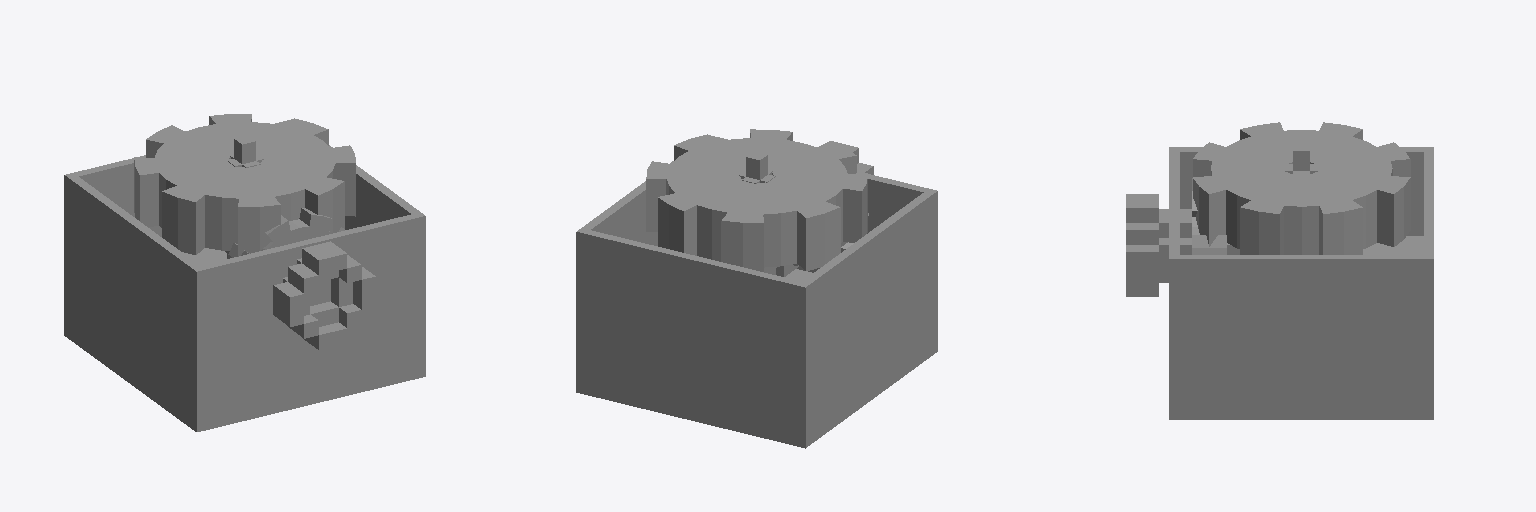
File: grinder_total.obj
The picture shows the model from 3 angles: view 1: azimuth 30°, elevation 25°; view 2: azimuth 150°, elevation 25°; view 3: azimuth 270°, elevation 25°; orthographic projection.
Parts seen in each view (by area): view 1: Cube.001_Cube.003, Gear.002, Rod.001_Cube.004; view 2: Cube.001_Cube.003, Gear.002, Rod.001_Cube.004; view 3: Cube.001_Cube.003, Gear.002, Rod.001_Cube.004.
Boxes of the visible parts, x1,y1,x2,y2 form: Cube.001_Cube.003: [64, 119, 425, 431]; Gear.002: [134, 114, 355, 256]; Rod.001_Cube.004: [225, 208, 375, 349]; Cube.001_Cube.003: [576, 135, 937, 448]; Gear.002: [646, 129, 867, 271]; Rod.001_Cube.004: [764, 141, 873, 276]; Cube.001_Cube.003: [1169, 144, 1433, 419]; Gear.002: [1193, 122, 1410, 254]; Rod.001_Cube.004: [1126, 178, 1239, 296].
Size of the model in its own units: 2 by 1.81 by 2.33.